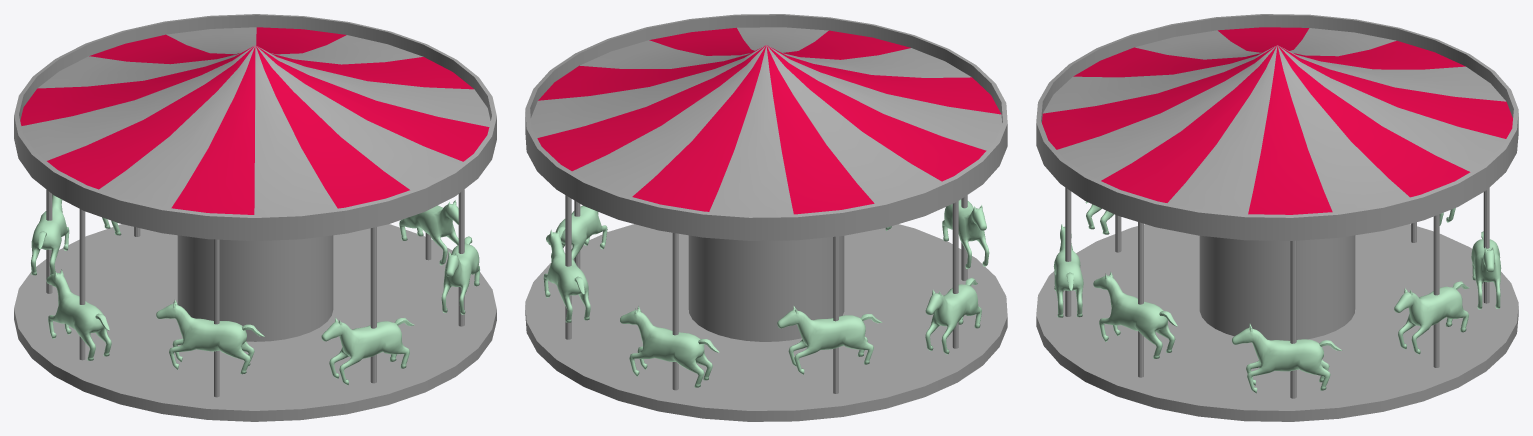
The model's file is karuselldone2.fbx.
3 views of the same model, side by side, from view 1: azimuth 30°, elevation 25°; view 2: azimuth 150°, elevation 25°; view 3: azimuth 270°, elevation 25° (orthographic).
Visible parts, largest first — view 1: karusell1, pCube4, pCube3, pCube5, pCube9, pCube6, pCube2; view 2: karusell1, pCube7, pCube6, pCube5, pCube8, pCube4, pCube9; view 3: karusell1, pCube9, pCube2, pCube8, pCube3, pCube7.
Part boxes in pixels (bbox=[...]): karusell1: bbox=[14, 14, 496, 421]; pCube4: bbox=[156, 300, 264, 374]; pCube3: bbox=[321, 317, 414, 385]; pCube5: bbox=[46, 269, 111, 360]; pCube9: bbox=[399, 200, 458, 265]; pCube6: bbox=[31, 194, 69, 275]; pCube2: bbox=[441, 236, 479, 314]; karusell1: bbox=[525, 14, 1007, 421]; pCube7: bbox=[620, 306, 719, 387]; pCube6: bbox=[777, 306, 882, 374]; pCube5: bbox=[925, 277, 981, 354]; pCube8: bbox=[543, 229, 590, 322]; pCube4: bbox=[942, 199, 989, 268]; pCube9: bbox=[551, 205, 607, 259]; karusell1: bbox=[1036, 14, 1518, 421]; pCube9: bbox=[1232, 323, 1341, 393]; pCube2: bbox=[1093, 271, 1177, 358]; pCube8: bbox=[1394, 281, 1469, 354]; pCube3: bbox=[1053, 224, 1083, 317]; pCube7: bbox=[1471, 231, 1501, 309].
Size of the model in its own units: 799 by 502 by 799.
